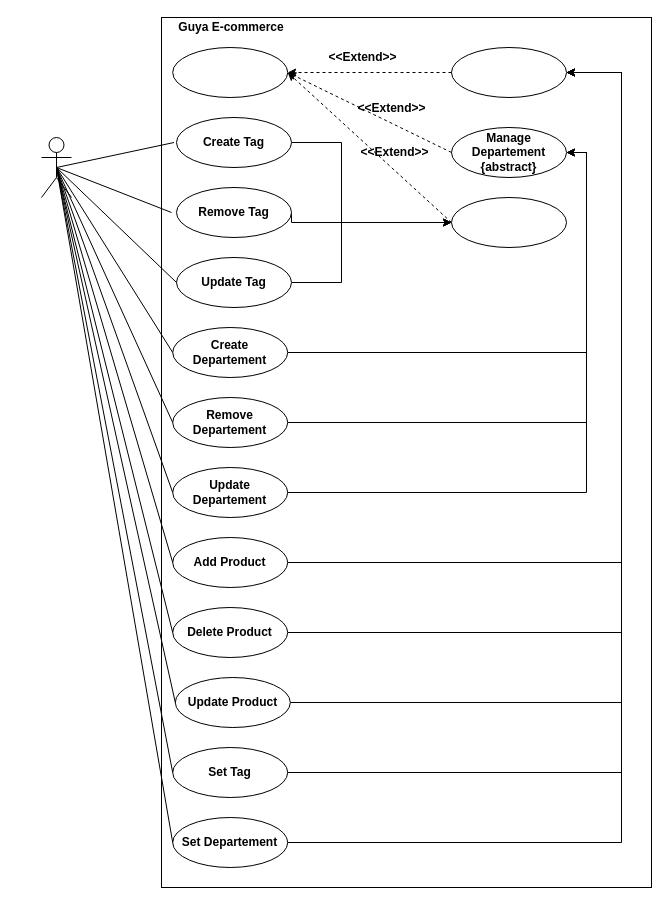
This 669x905 diagram has some shape labels left out. Each missing label, with the centre of its shape:
"Manage Catalog {abstract}" goes at [230,72].
"Manage Product {abstract}" goes at [508,72].
"Manage Tag {abstract}" goes at [508,222].
"Marketing Administrator" goes at [56,167].
